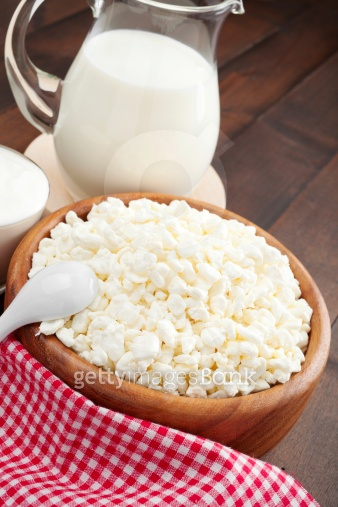glass of milk: (53, 1, 222, 210)
plain rice: (72, 219, 295, 369)
